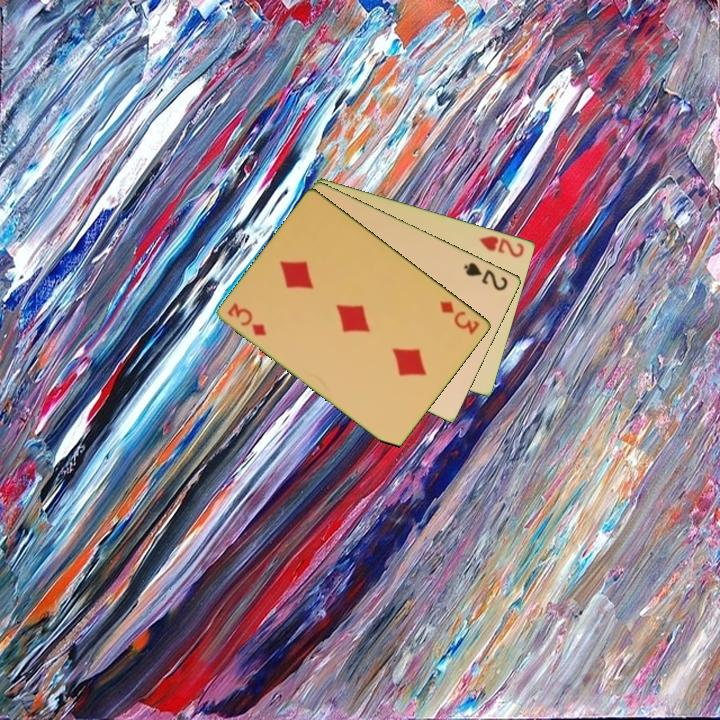2h: (476, 232, 528, 260)
2s: (461, 259, 511, 293)
3d: (436, 297, 483, 337), (224, 299, 270, 339)
